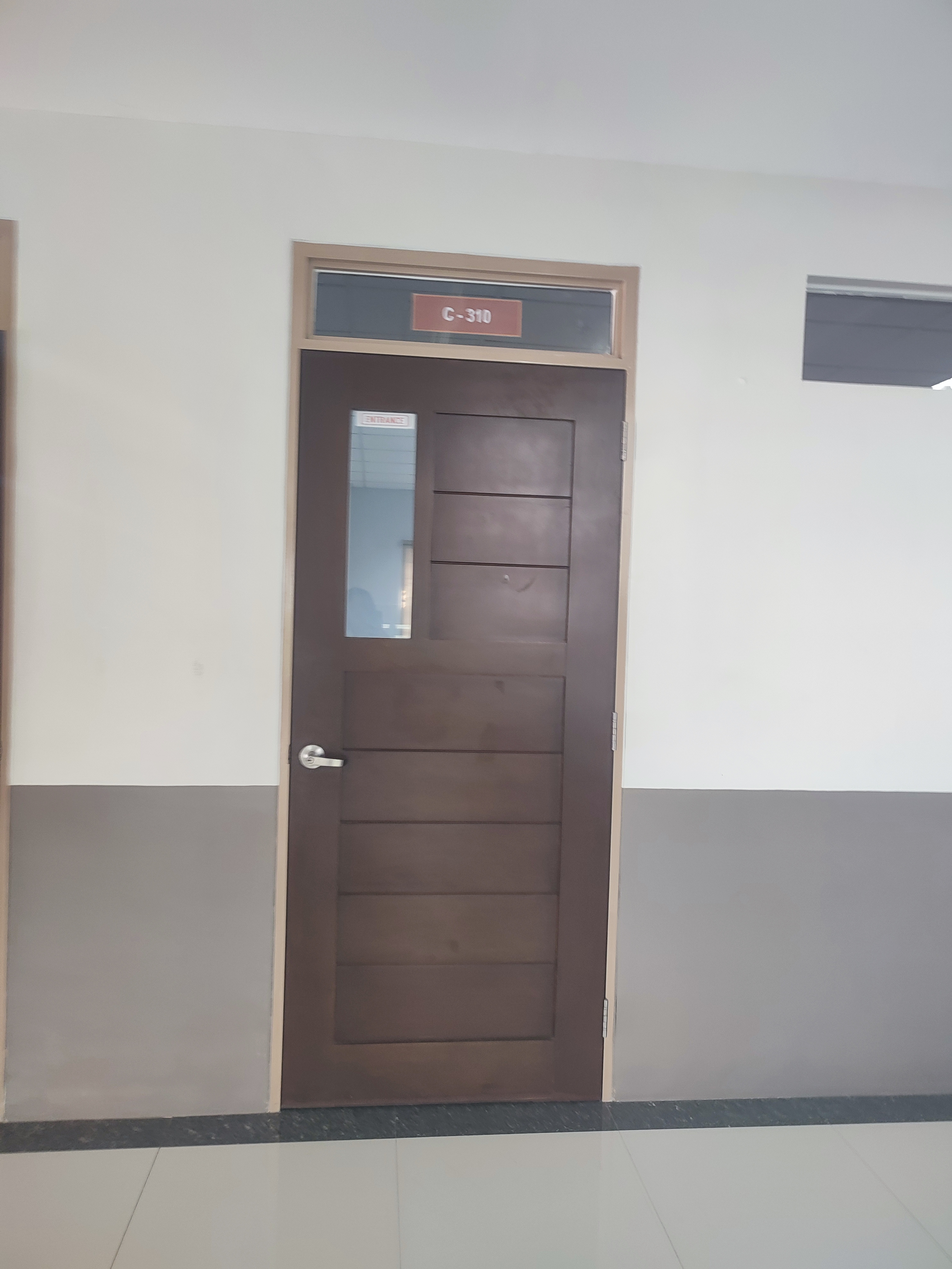door: (270, 242, 628, 1114)
